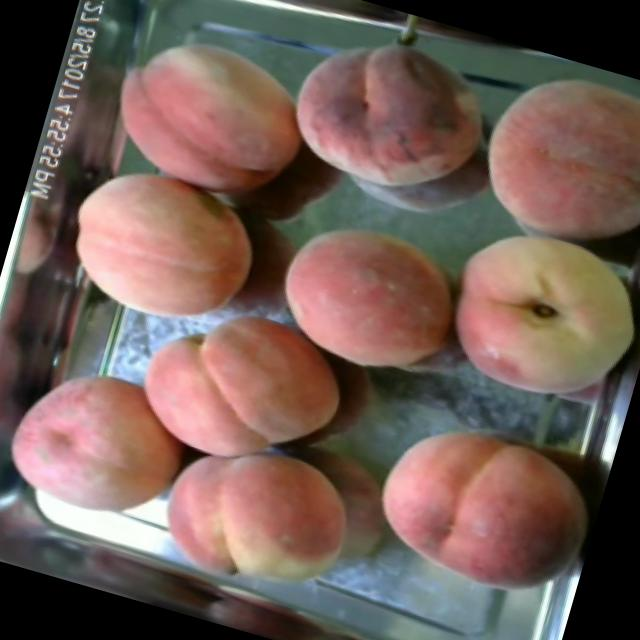Fruit: (262, 1, 528, 232), (352, 390, 614, 622), (113, 278, 370, 498), (134, 403, 380, 626), (414, 207, 640, 432), (255, 191, 492, 405), (42, 148, 278, 352), (93, 12, 330, 215), (448, 39, 640, 276), (0, 340, 212, 551)
